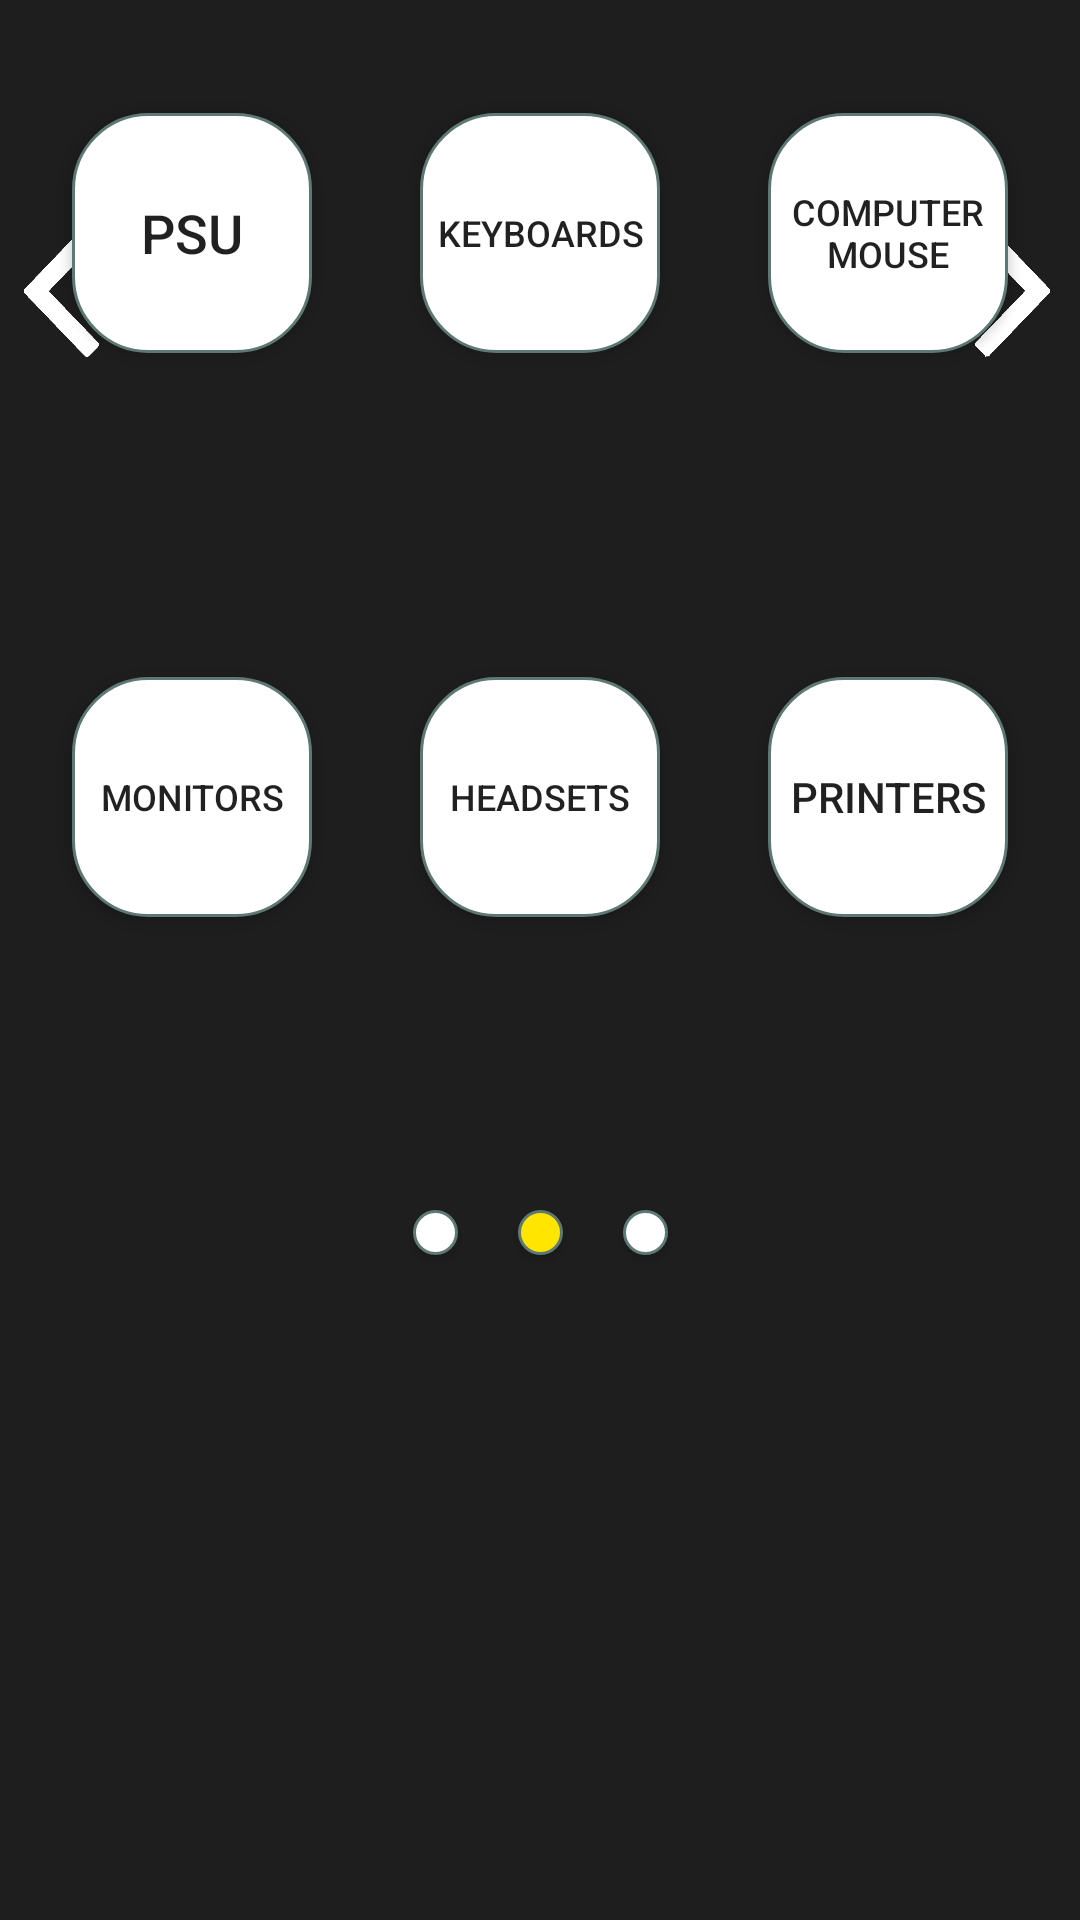

Icon bounding boxes for this 1080x1920 phone screenshot, format (x1, y1, x2, y2):
arrow left: (24, 216, 99, 357)
